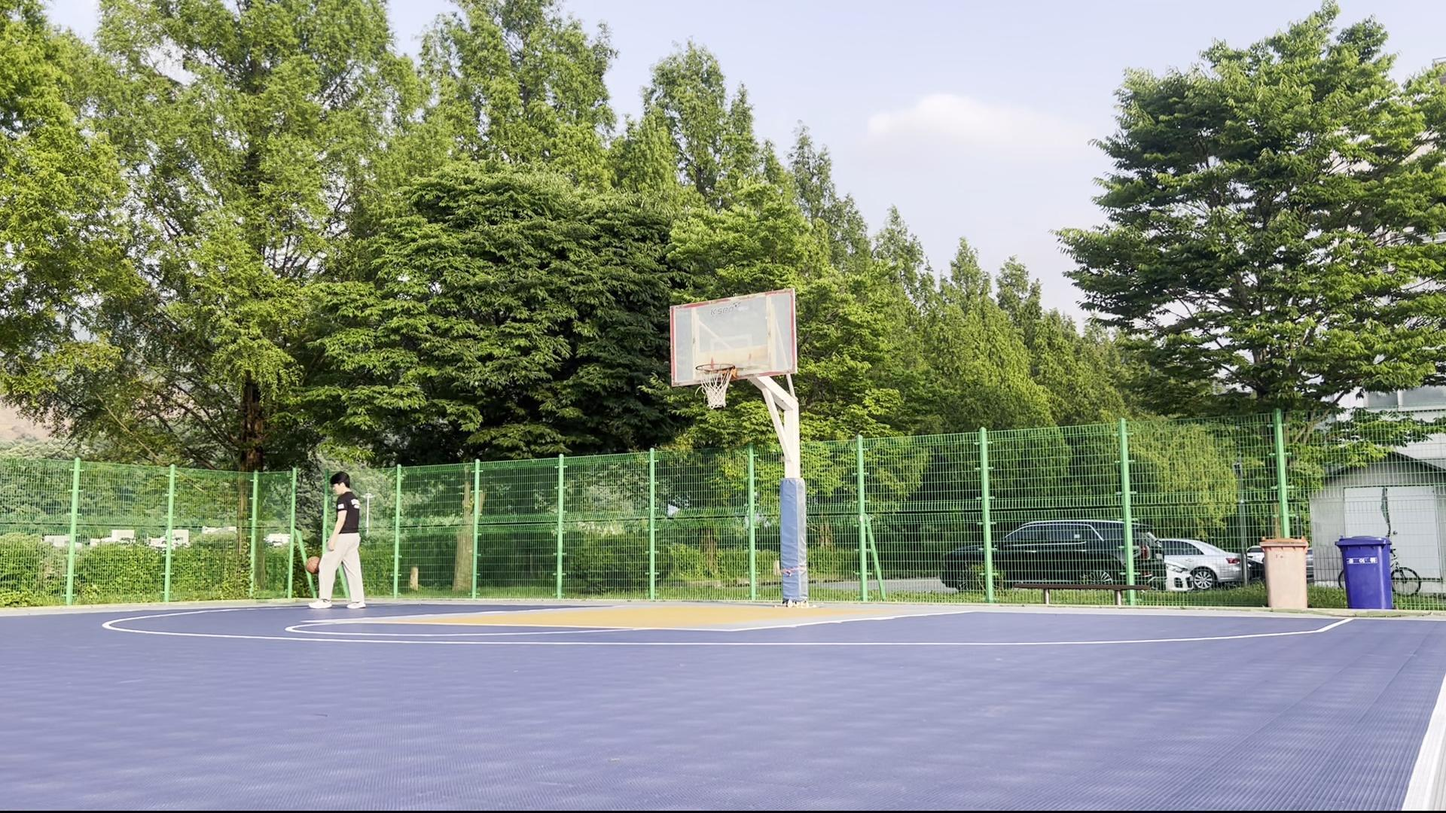ball: (305, 556, 321, 575)
human: (307, 470, 367, 609)
rim: (695, 362, 736, 410)
